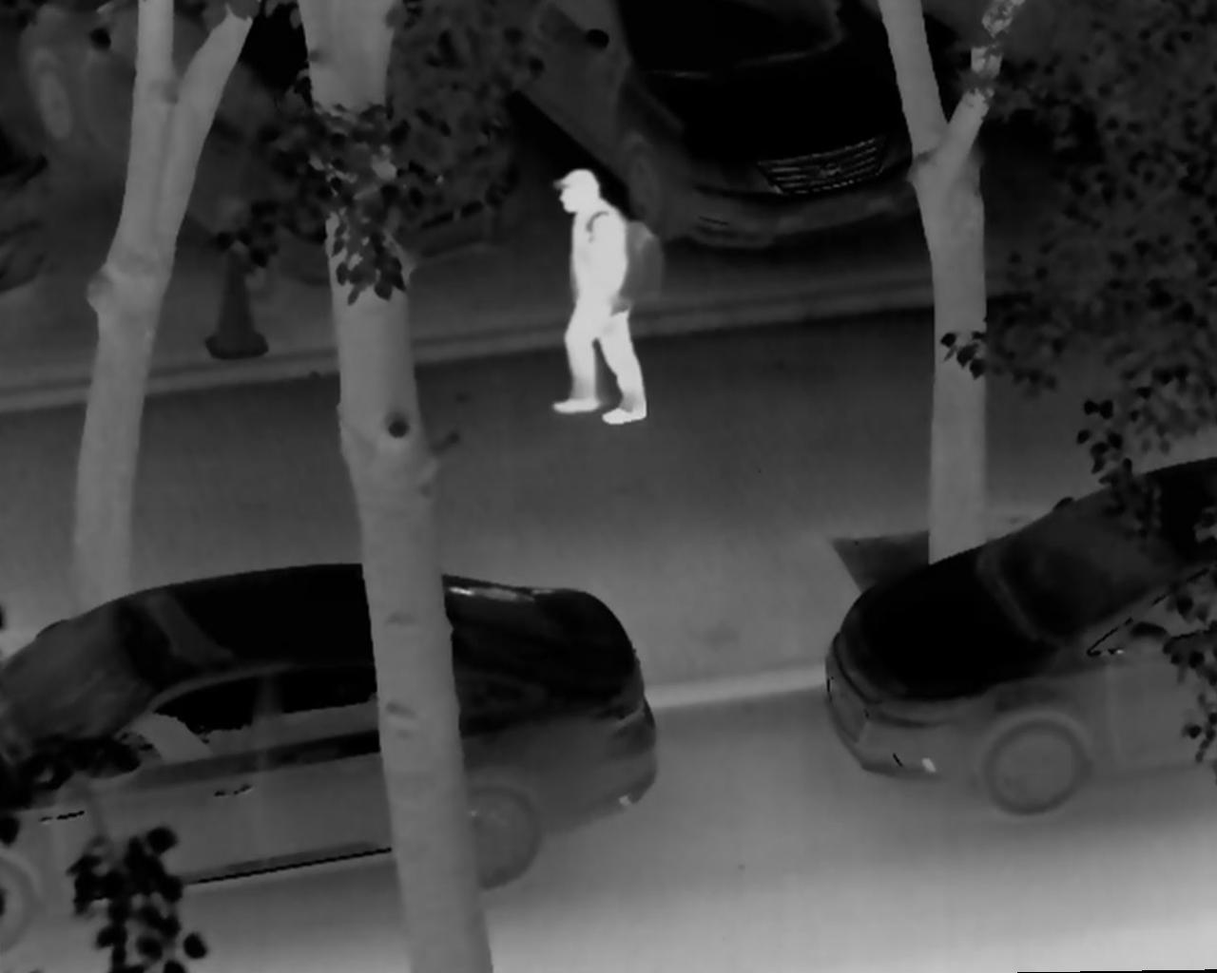person: (543, 168, 653, 426)
